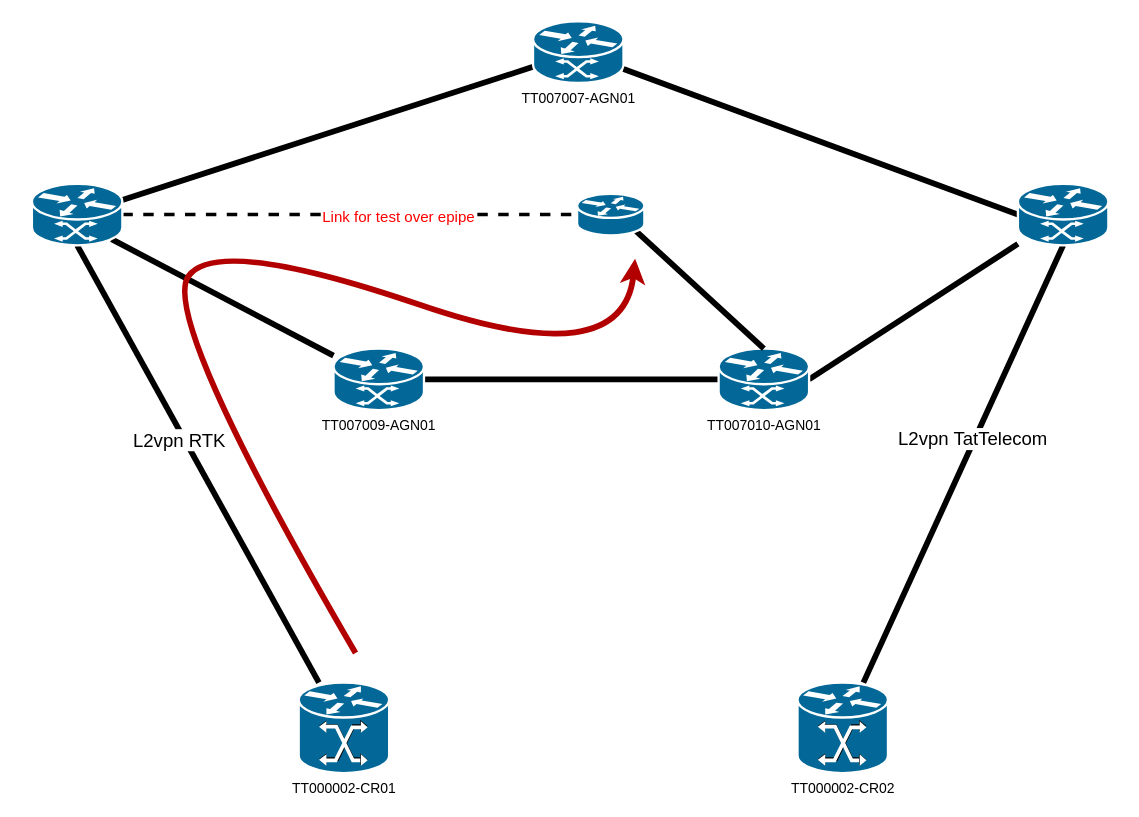
Image size: 1139x817. Some labels were removed from this diagram. The box of each missing label's shape, as (x1, y1, x2, y2) in pixels:
TT001008-AGN01: (1016, 182, 1109, 246)
TT001049-CSG01: (575, 192, 645, 236)
TT007008-AGN01: (30, 182, 123, 246)
